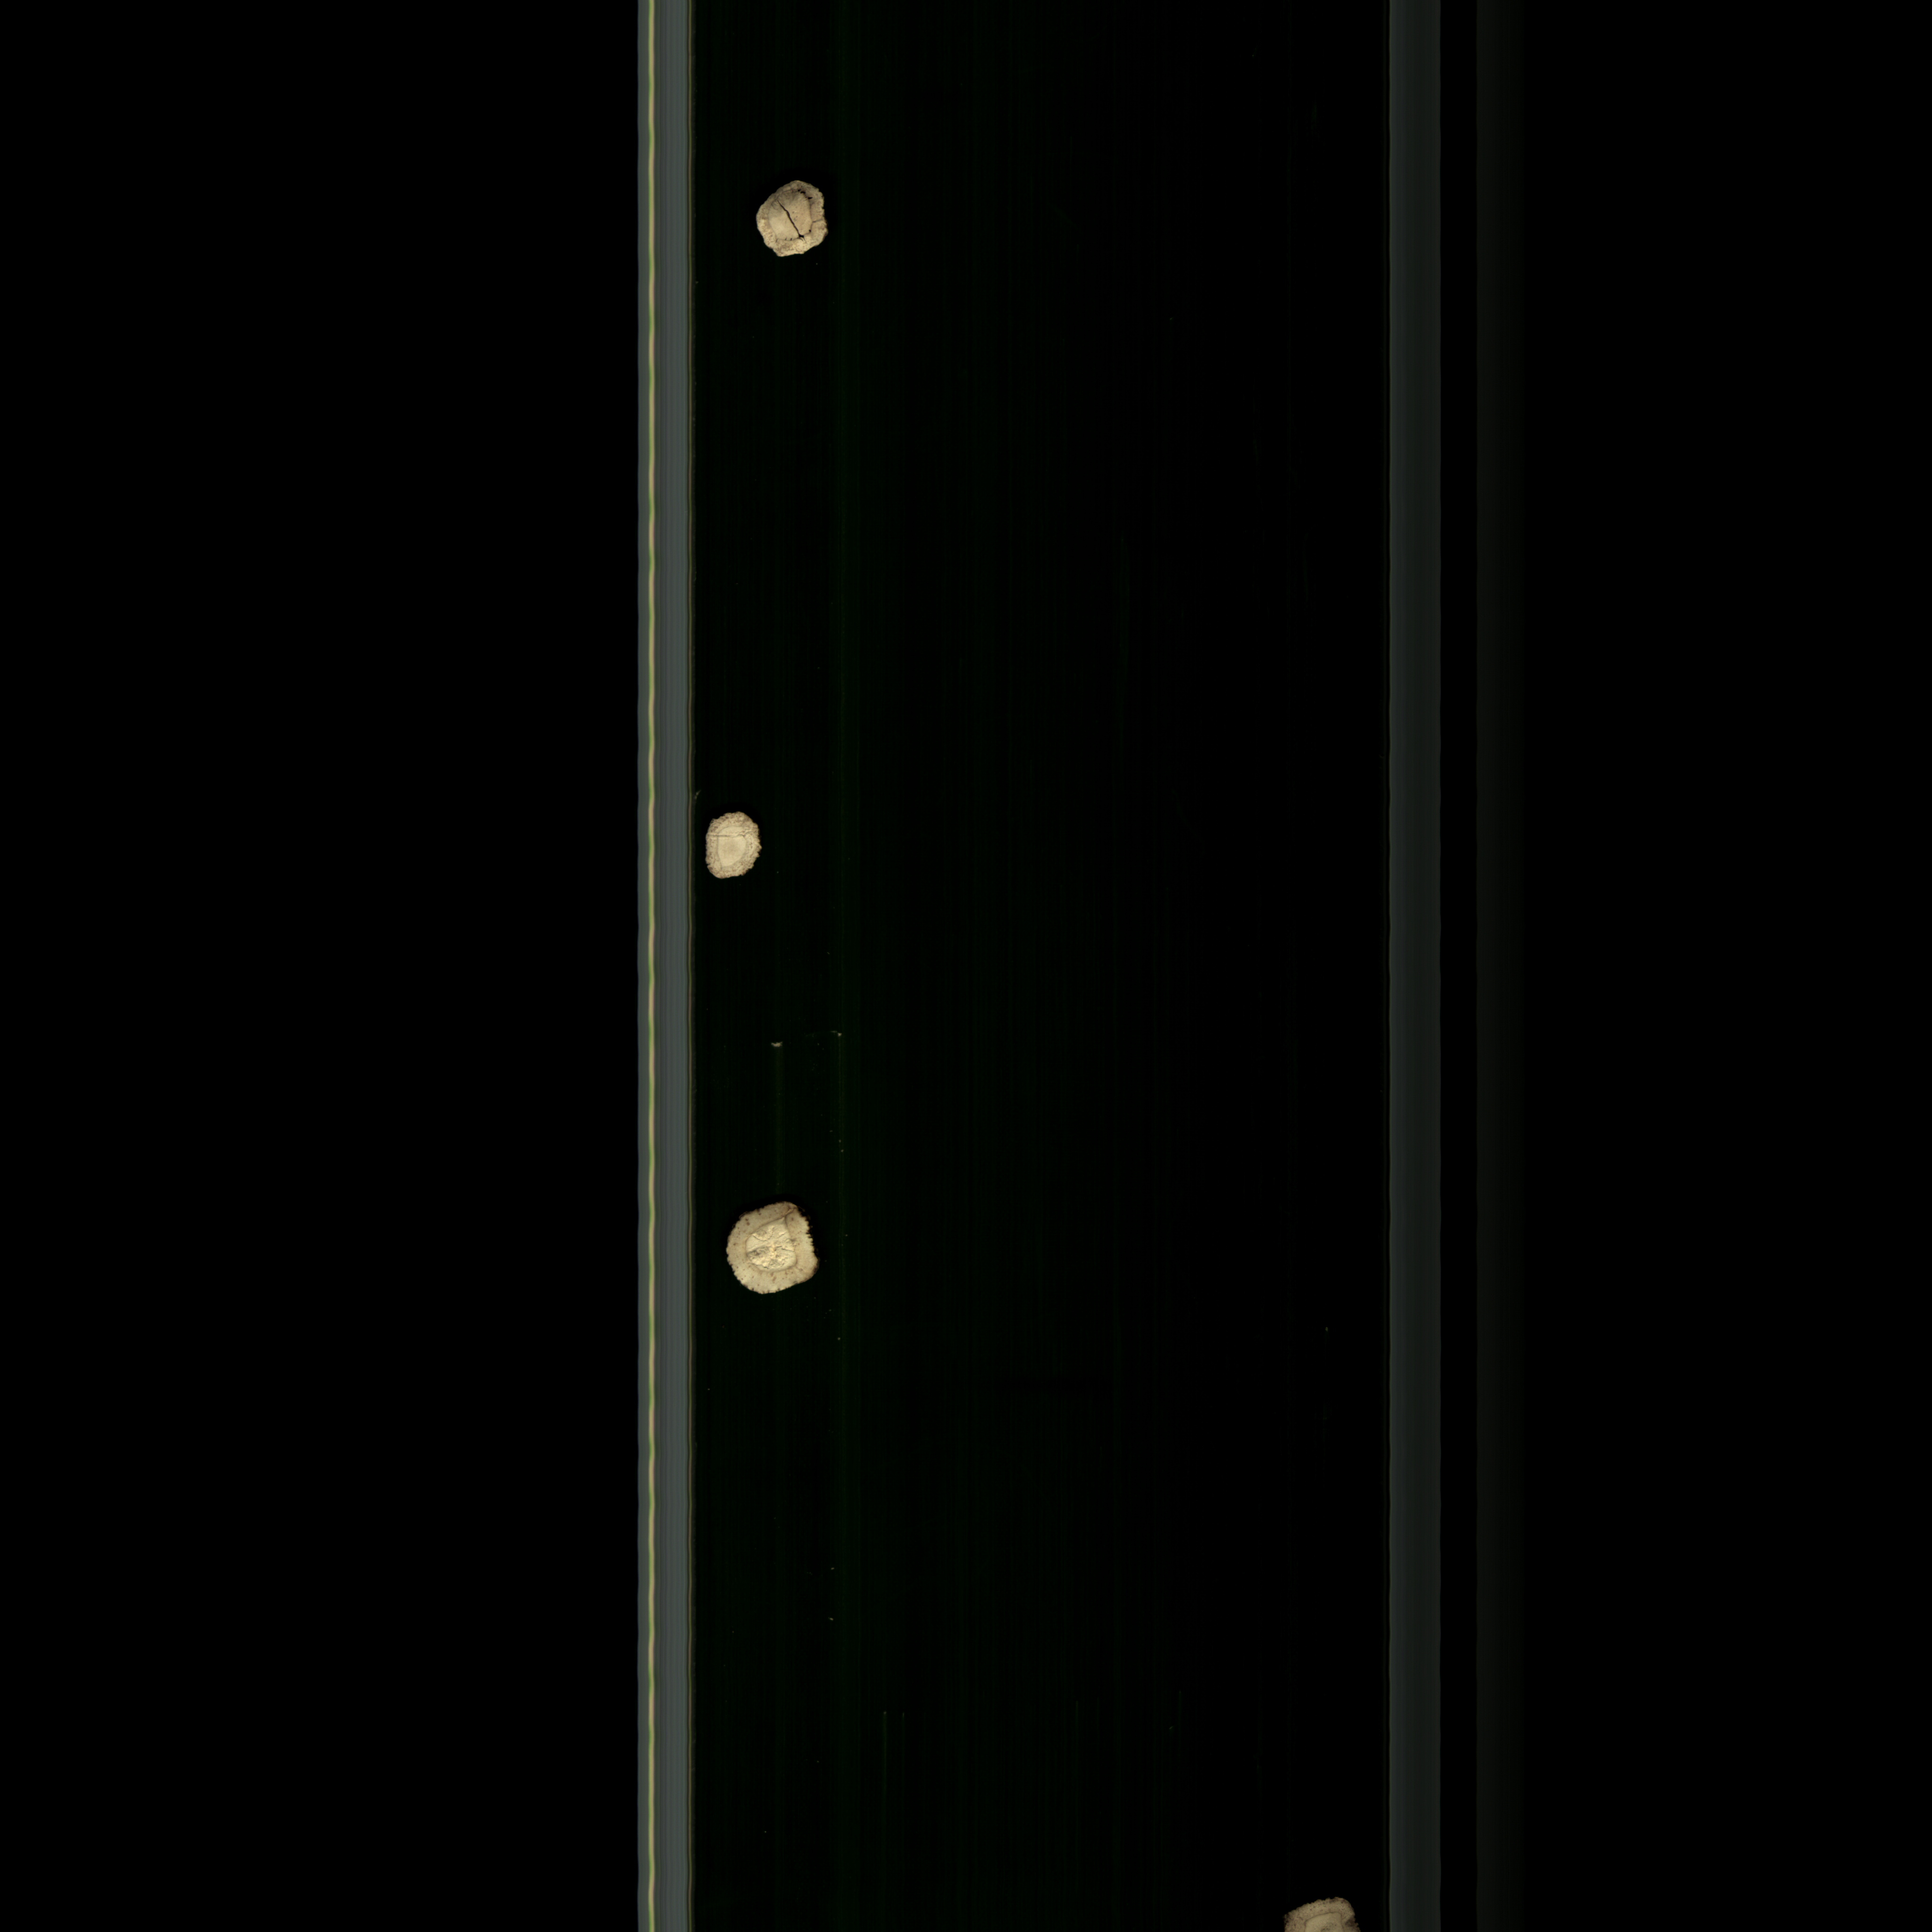dreg: (764, 1035, 789, 1056)
moldy: (752, 168, 839, 265), (1267, 1895, 1376, 1932)
